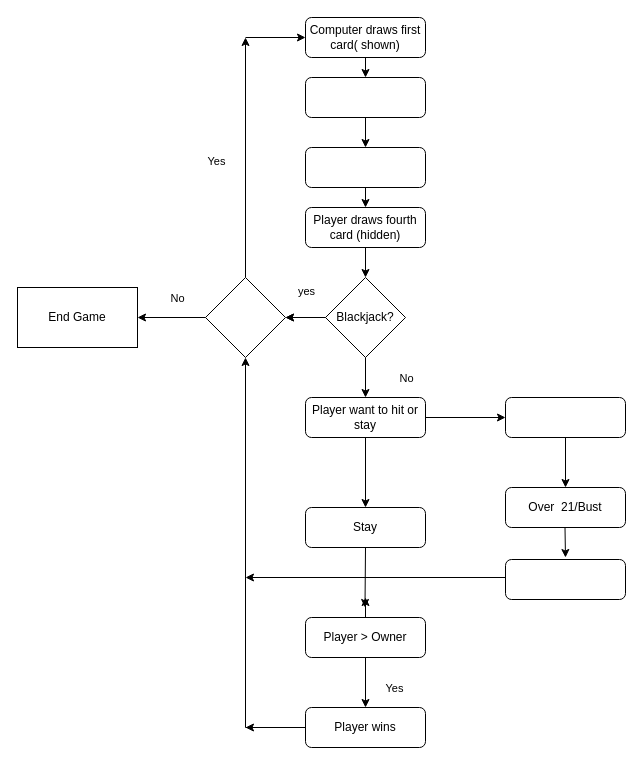
Some shapes in this 643 by 765 pixel diagram are drawn without their labels. The shapes that lost their labels are listed below. From the top down, each one's centre as x and y in pixels, then its label:
At point (365, 97): "Player draws second card (show)".
At point (365, 167): "Computer Draws third card (hidden)".
At point (245, 317): "Play again?".
At point (565, 417): "Hit".
At point (565, 579): "Computer Wins".
